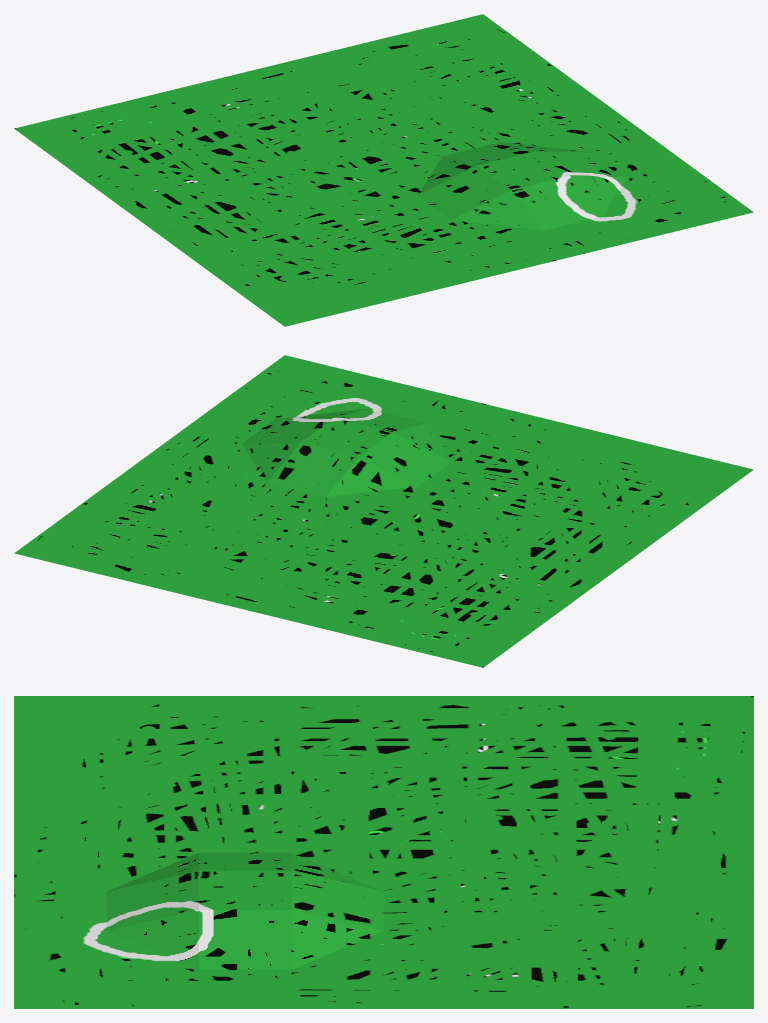
The model's file is ground.obj.
3 views of the same model, one above another, from view 1: azimuth 30°, elevation 25°; view 2: azimuth 150°, elevation 25°; view 3: azimuth 270°, elevation 25° (orthographic). The views are drawn at different scales.
Parts seen in each view (by area): view 1: Plane; view 2: Plane; view 3: Plane.
Part boxes in pixels (<box>): Plane: <box>14,14,753,326</box>; Plane: <box>14,355,753,667</box>; Plane: <box>14,696,753,1008</box>.
Bounding box in the file's own units: 18.61 × 0.5785 × 18.61.
1 material, 1 textured.
